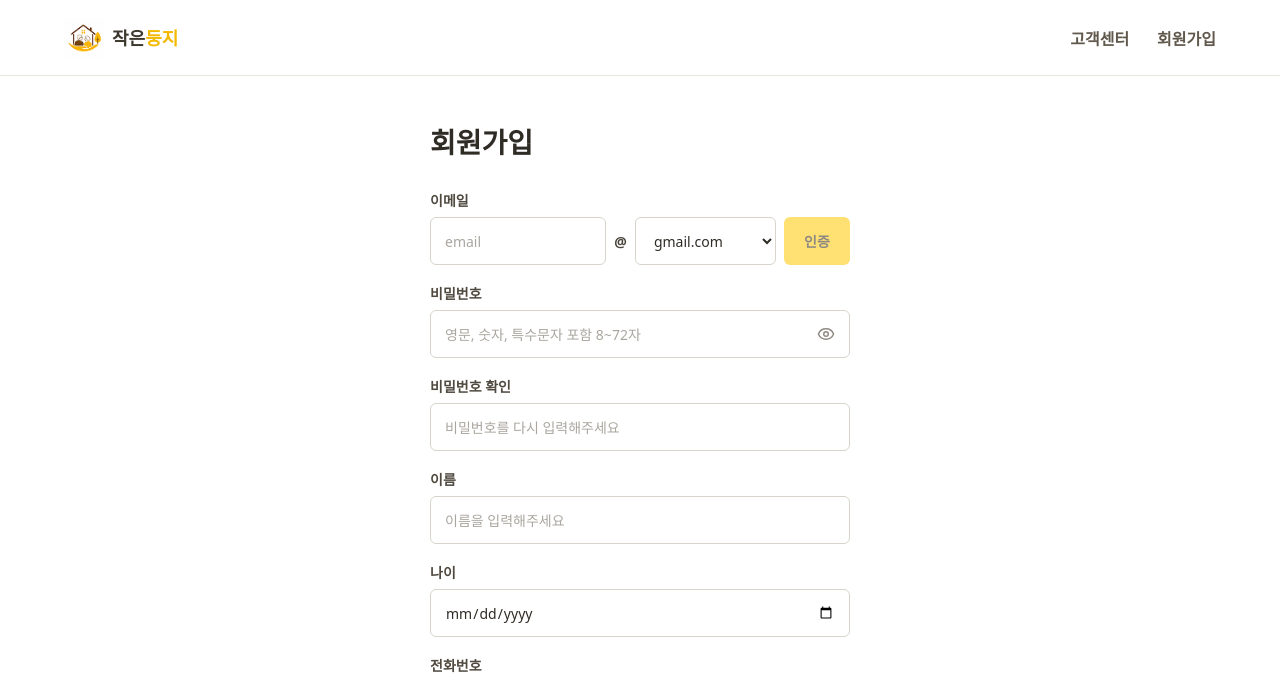
Test: SignupView › uses the shared signup layout and starts the birth date at 1960 on first focus
Expected: the element with class "login-header__wordmark" reads "작은 둥지", [112,28,178,46]
Expected: the button "인증" is shown, [784,217,850,265]
Focus the date field named "birthDate" at (640, 613), box [430,589,850,637]
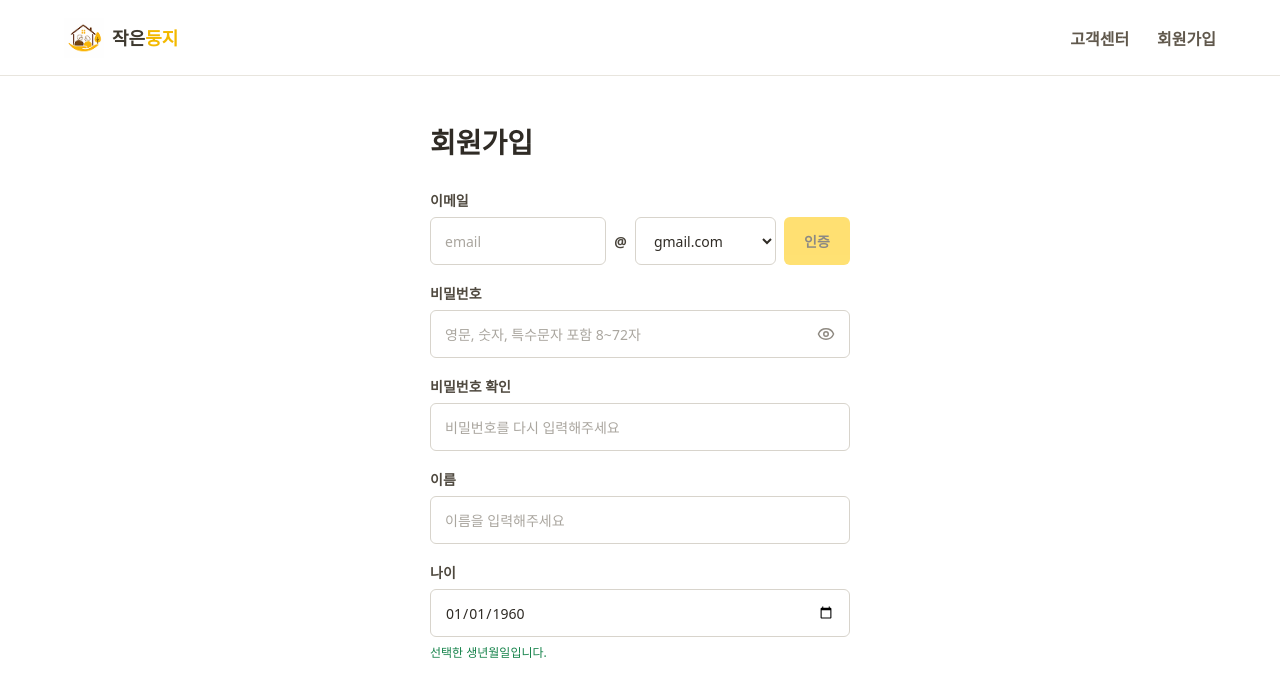
Now the date field named "birthDate" holds "1960-01-01", box [430,589,850,637]
